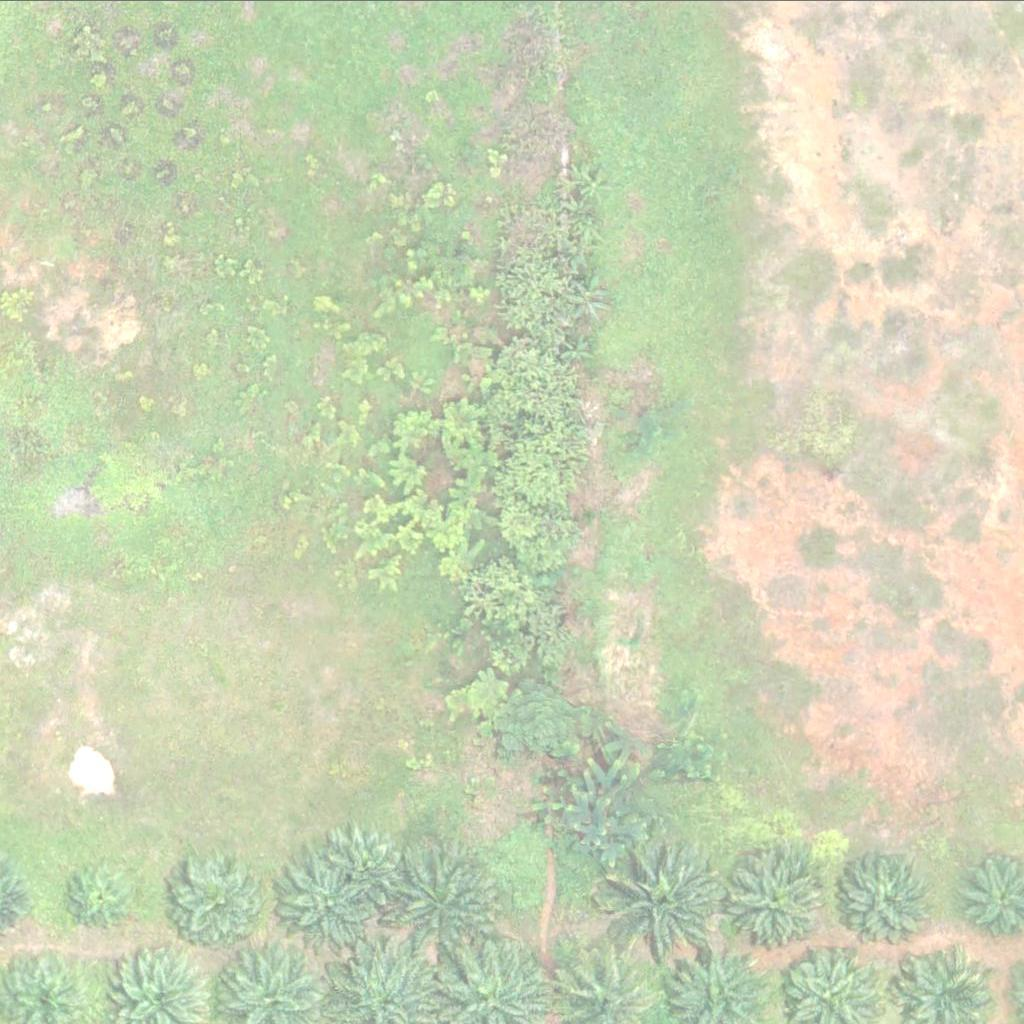Kelapa_Sawit: (395, 844, 508, 957), (610, 842, 723, 954), (724, 850, 825, 950), (838, 848, 938, 948), (177, 854, 265, 941), (284, 861, 372, 948), (324, 826, 412, 913), (70, 862, 133, 925)
